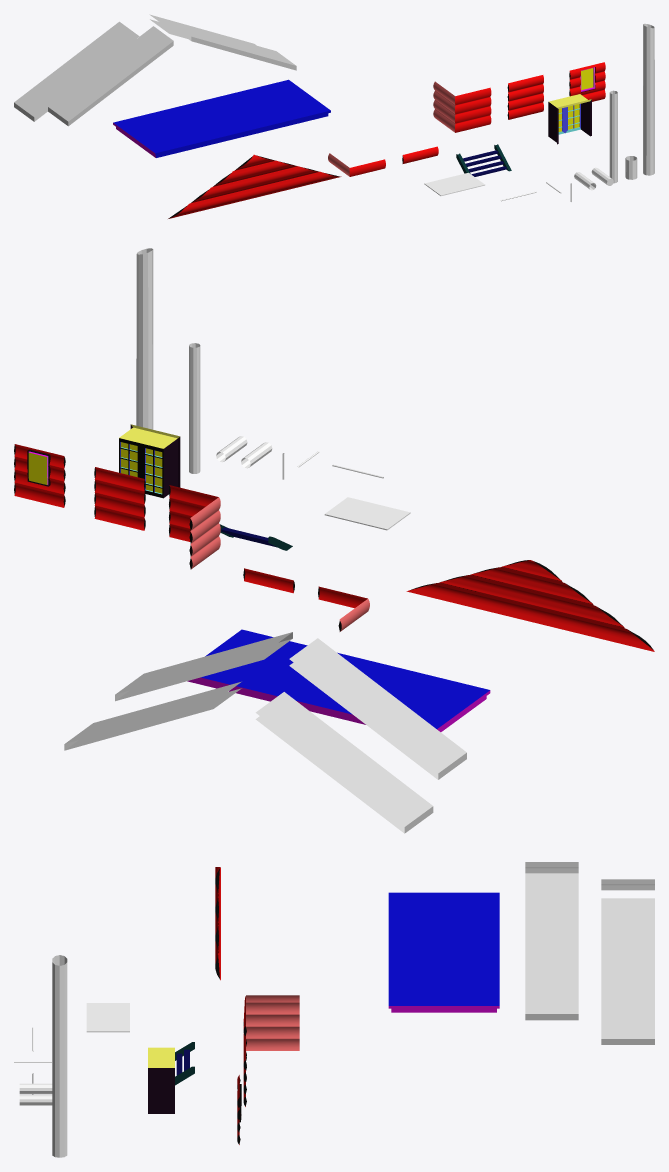
3 renders of one model, top to bottom at view 1: azimuth 30°, elevation 25°; view 2: azimuth 150°, elevation 25°; view 3: azimuth 270°, elevation 25°, orthographic. The views are drawn at different scales.
Parts seen in each view (by area): view 1: Porch1_low, Roof16_low, triWallPiece2_low, Roof18_low, Corner17_low, supportPillar10_low, door_low, Roof17_low, Wall43_low, Cabin_low_windowFrame1_low, stairs_low, balconySupportPillar2_low (+4 smaller); view 2: Porch1_low, triWallPiece2_low, Roof18_low, Roof16_low, door_low, Roof17_low, supportPillar10_low, Roof19_low, Corner17_low, Cabin_low_windowFrame1_low, Wall43_low, balconyFloor1_low (+2 smaller); view 3: Porch1_low, Roof17_low, Roof19_low, supportPillar10_low, Corner17_low, door_low, balconyFloor1_low, triWallPiece2_low, Roof16_low, Roof18_low, stairs_low, Corner16_low.
Part boxes in pixels (x1,y1,x2,y2): Porch1_low: (113, 79, 330, 157); Roof16_low: (48, 26, 173, 126); triWallPiece2_low: (168, 154, 341, 218); Roof18_low: (14, 21, 139, 121); Corner17_low: (433, 81, 491, 132); supportPillar10_low: (643, 23, 654, 175); door_low: (548, 94, 591, 144); Roof17_low: (171, 22, 296, 70); Wall43_low: (507, 75, 543, 119); Cabin_low_windowFrame1_low: (569, 62, 605, 101); stairs_low: (456, 144, 511, 176); balconySupportPillar2_low: (609, 90, 617, 183); Porch1_low: (187, 629, 490, 731); triWallPiece2_low: (406, 560, 654, 651); Roof18_low: (255, 692, 433, 833); Roof16_low: (289, 638, 466, 779); door_low: (119, 424, 180, 498); Roof17_low: (115, 632, 292, 701); supportPillar10_low: (136, 248, 153, 429); Roof19_low: (64, 681, 241, 750); Corner17_low: (169, 485, 220, 569); Cabin_low_windowFrame1_low: (14, 444, 65, 507); Wall43_low: (94, 467, 145, 530); balconyFloor1_low: (324, 497, 410, 530); Porch1_low: (388, 892, 499, 1012); Roof17_low: (525, 873, 578, 1020); Roof19_low: (601, 898, 654, 1044); supportPillar10_low: (52, 955, 67, 1157); Corner17_low: (243, 1002, 299, 1070); door_low: (148, 1047, 174, 1113); balconyFloor1_low: (86, 1003, 129, 1032); triWallPiece2_low: (215, 867, 220, 980); Roof16_low: (525, 862, 578, 873); Roof18_low: (601, 879, 654, 890); stairs_low: (175, 1042, 194, 1085); Corner16_low: (243, 995, 299, 1025).
Bounding box in the file's own units: 25.37 × 8.09 × 23.96.
